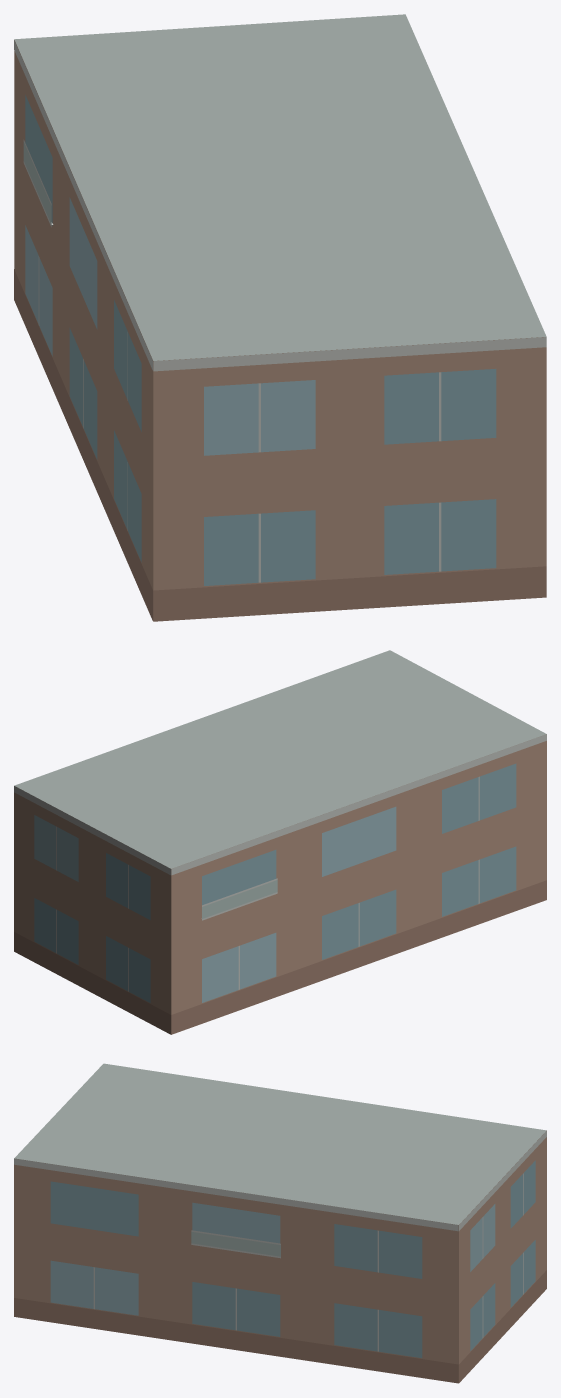
The model's file is survey-upis-32868966.glb.
The picture shows the model from 3 angles, top to bottom: view 1: azimuth 30°, elevation 25°; view 2: azimuth 150°, elevation 25°; view 3: azimuth 270°, elevation 25°; orthographic projection. The views are drawn at different scales.
Parts seen in each view (by area): view 1: survey-upis-32868966.tmp; view 2: survey-upis-32868966.tmp; view 3: survey-upis-32868966.tmp.
Boxes of the visible parts, bbox=[...] form: survey-upis-32868966.tmp: bbox=[14, 14, 546, 621]; survey-upis-32868966.tmp: bbox=[14, 650, 546, 1034]; survey-upis-32868966.tmp: bbox=[14, 1063, 546, 1383].
Size of the model in its own units: 13.35 by 6.1 by 18.6.
